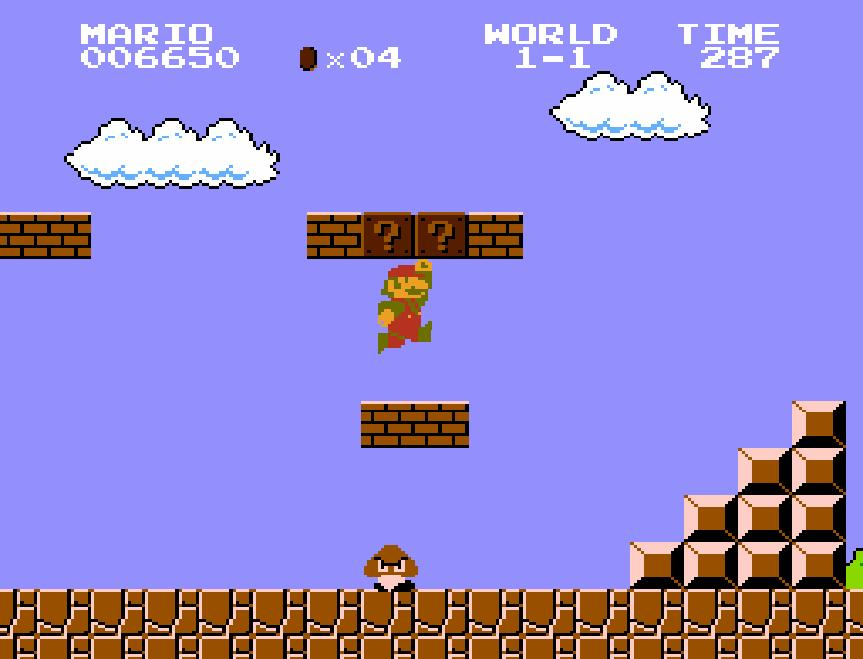big_mario: (376, 257, 434, 355)
